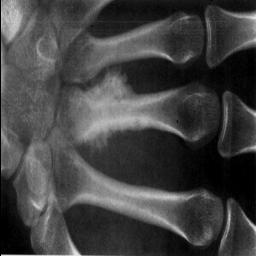cancer: (67, 68, 146, 157)
